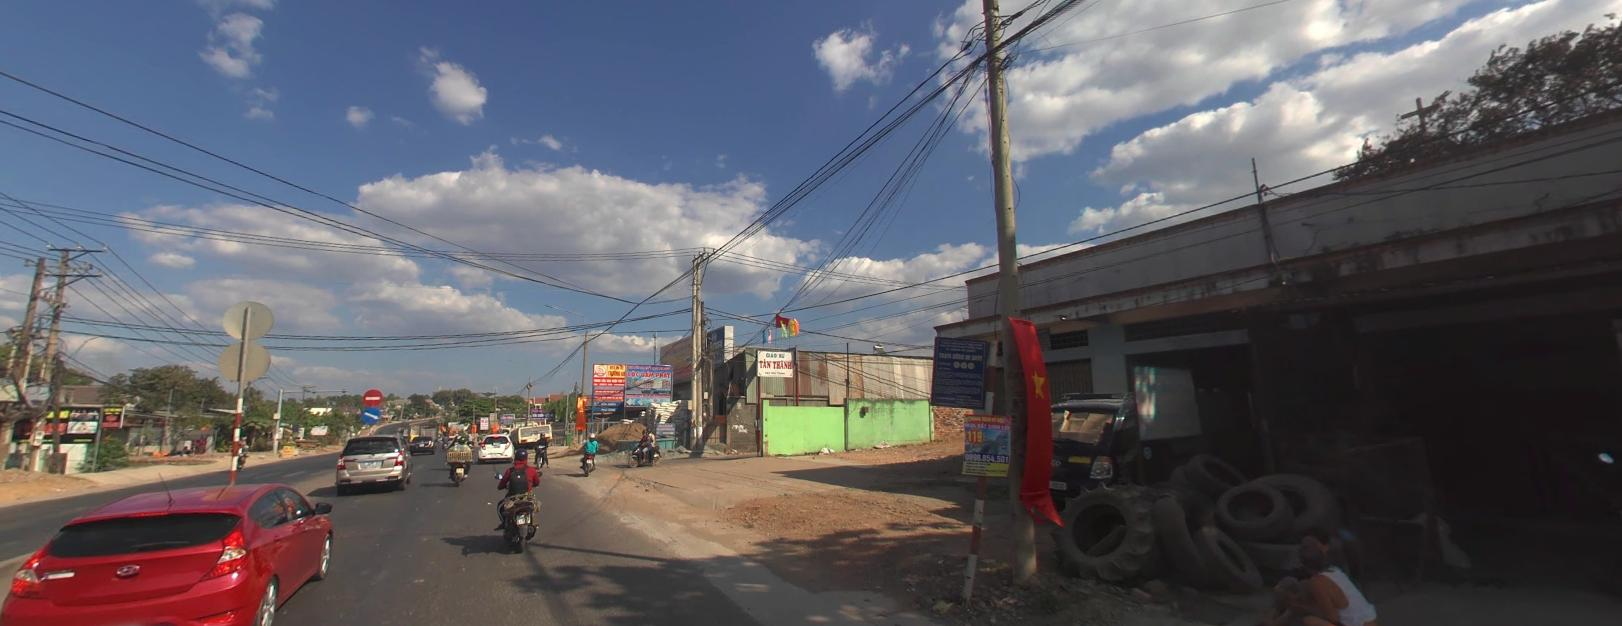Cam nguoc chieu: (363, 388, 382, 405)
Hieu lenh: (361, 406, 380, 422)
